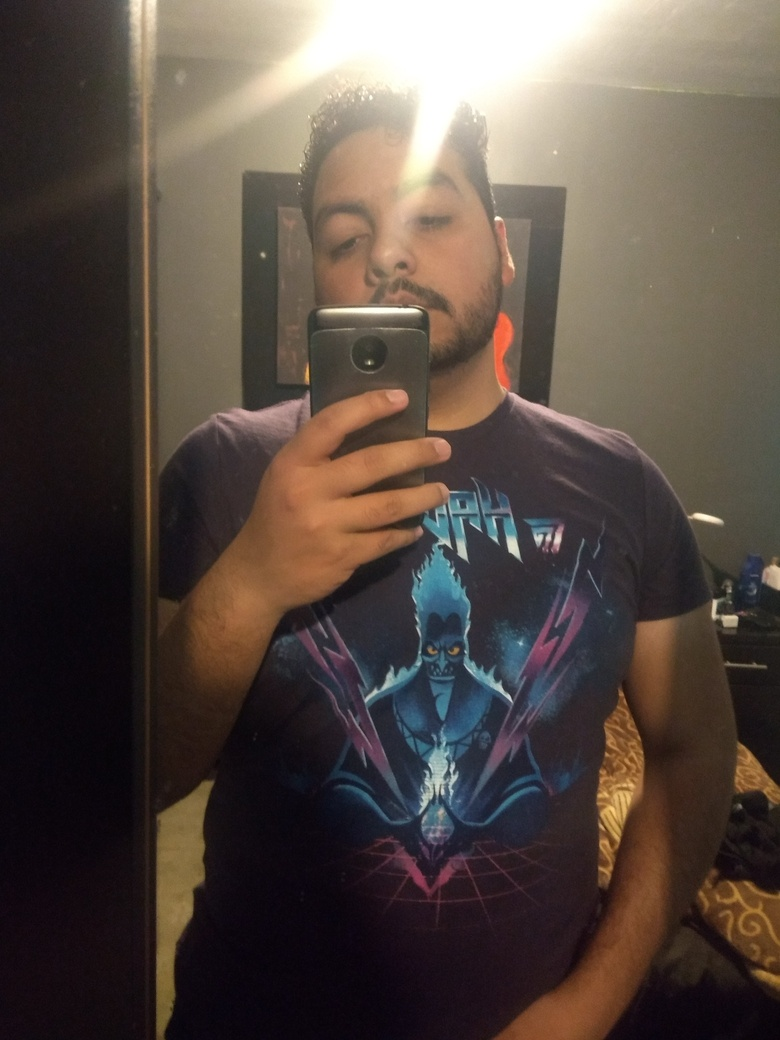Yoshi: (260, 81, 589, 390)
